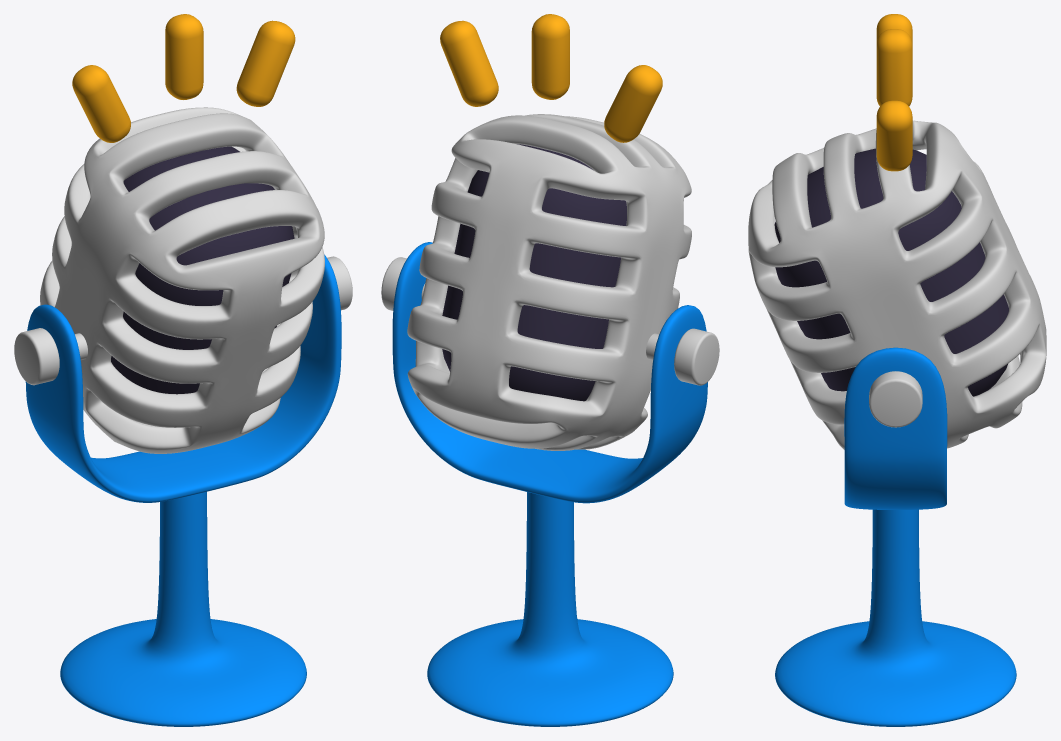
File: turn-on-mic-animated-3d-icon-1185758228591.glb
3 renders of one model, left to right at view 1: azimuth 30°, elevation 25°; view 2: azimuth 150°, elevation 25°; view 3: azimuth 270°, elevation 25°, orthographic. The views are drawn at different scales.
Visible parts, largest first — view 1: Microphone Frame, Circle.001, Plane, Microphone, Dot.002, Dot, Dot.001, Circle.003; view 2: Microphone Frame, Circle.001, Plane, Microphone, Dot.002, Dot, Dot.001, Circle.003; view 3: Microphone Frame, Circle.001, Plane, Microphone, Dot, Circle.003, Dot.002, Dot.001.
Part boxes in pixels (x1,y1,x2,y2): Microphone Frame: (40, 107, 324, 453); Circle.001: (60, 491, 306, 726); Plane: (25, 254, 341, 502); Microphone: (111, 146, 294, 394); Dot.002: (236, 20, 295, 106); Dot: (165, 14, 203, 99); Dot.001: (72, 65, 130, 142); Circle.003: (14, 256, 352, 385); Microphone Frame: (407, 114, 691, 450); Circle.001: (427, 492, 673, 726); Plane: (392, 242, 707, 503); Microphone: (442, 144, 626, 401); Dot.002: (440, 20, 498, 106); Dot: (531, 14, 569, 99); Dot.001: (604, 65, 662, 142); Circle.003: (381, 257, 719, 385); Microphone Frame: (748, 120, 1046, 449); Circle.001: (775, 509, 1016, 726); Plane: (844, 347, 947, 509); Microphone: (774, 148, 1008, 396); Dot: (876, 29, 912, 106); Circle.003: (869, 371, 922, 427); Dot.002: (876, 100, 912, 171); Dot.001: (876, 14, 912, 43).
Size of the model in its own units: 1.43 by 2.89 by 1.2.
